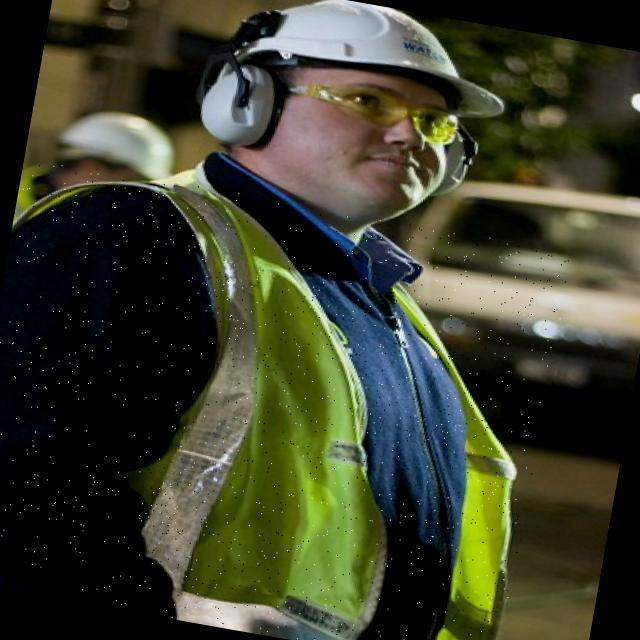helmet: (221, 0, 514, 128)
vest: (0, 156, 571, 640)
